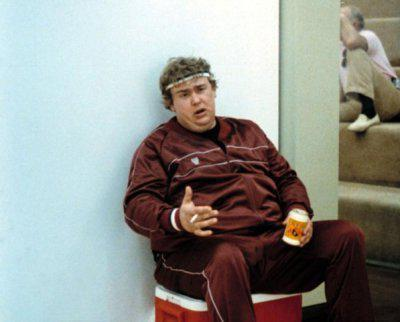Drunk: (171, 77, 216, 124)
